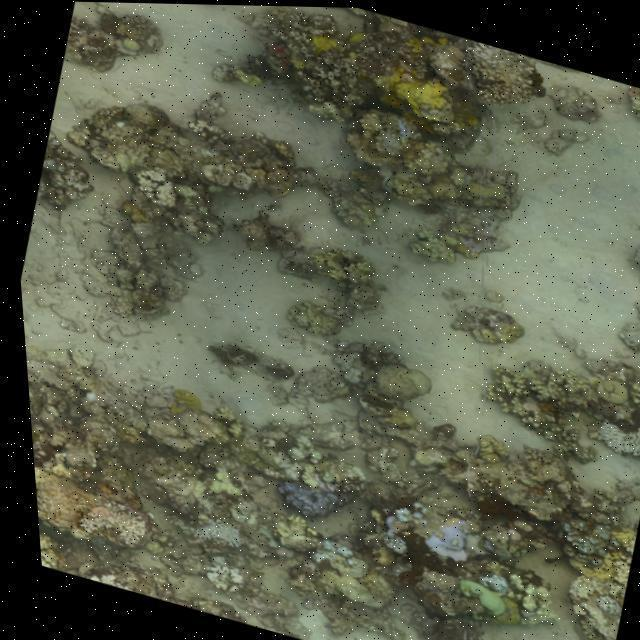Bleached Coral: (175, 509, 268, 558), (121, 164, 195, 214), (185, 550, 252, 602), (582, 407, 640, 460)
